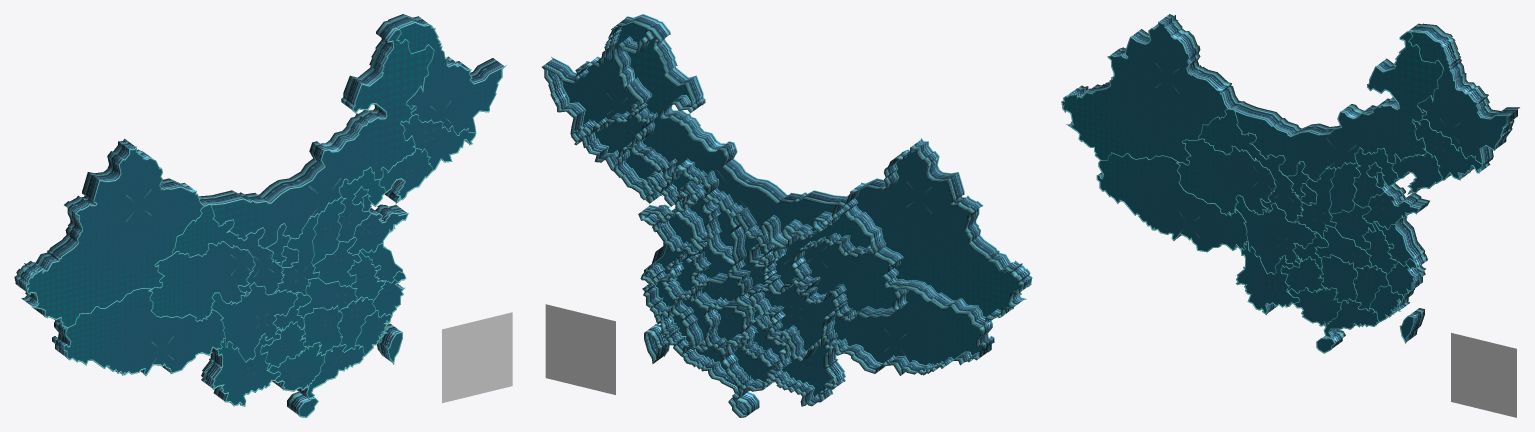
File: chinaMap.fbx
3 views of the same model, side by side, from view 1: azimuth 30°, elevation 25°; view 2: azimuth 150°, elevation 25°; view 3: azimuth 330°, elevation 25° (orthographic). The views are drawn at different scales.
Visible parts, largest first — view 1: xinjiang, neimenggu, xizang, heilongjiang, qinghai, jiuduan, miaobian, gansu, sichuan, quanguowang, yunnan, jilin (+19 smaller); view 2: xinjiang, neimenggu, xizang, heilongjiang, qinghai, jiuduan, gansu, sichuan, yunnan, jilin, hebei, shaanxi (+20 smaller); view 3: xinjiang, neimenggu, xizang, heilongjiang, qinghai, jiuduan, miaobian, gansu, quanguowang, sichuan, yunnan, jilin (+18 smaller).
Part boxes in pixels (x1,y1,x2,y2): xinjiang: (14,138,203,327); neimenggu: (199,21,434,247); xizang: (52,288,225,374); heilongjiang: (388,14,503,135); qinghai: (150,241,255,321); jiuduan: (442,312,512,403); miaobian: (25,22,506,417); gansu: (172,196,299,296); sichuan: (211,282,298,362); quanguowang: (68,30,475,386); yunnan: (201,334,279,405); jilin: (400,114,475,170); xinjiang: (843,139,1031,327); neimenggu: (612,21,846,248); xizang: (821,280,993,375); heilongjiang: (542,15,657,135); qinghai: (791,233,907,321); jiuduan: (545,304,615,394); gansu: (747,196,885,296); sichuan: (749,278,846,361); yunnan: (766,326,844,406); jilin: (570,108,656,171); hebei: (660,159,720,242); shaanxi: (726,206,781,295); xinjiang: (1062,14,1238,164); neimenggu: (1235,23,1443,181); xizang: (1097,152,1247,251); heilongjiang: (1408,23,1519,163); qinghai: (1177,139,1275,215); jiuduan: (1451,333,1516,417); miaobian: (1061,21,1511,353); gansu: (1199,101,1316,222); quanguowang: (1101,33,1481,343); sichuan: (1235,195,1315,274); yunnan: (1237,241,1299,313); jilin: (1411,119,1493,179).
Size of the model in its own units: 477 by 363 by 21.
